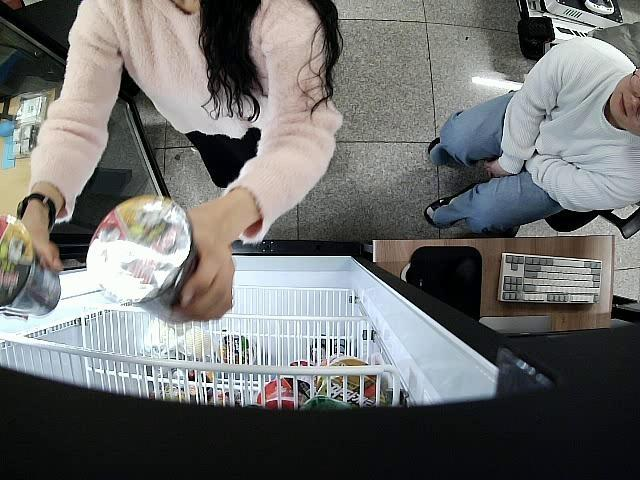08_buldak_S: (86, 195, 201, 324), (0, 214, 61, 316)
